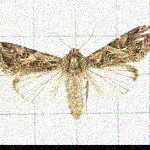Spodoptera litura: (0, 14, 149, 120)
